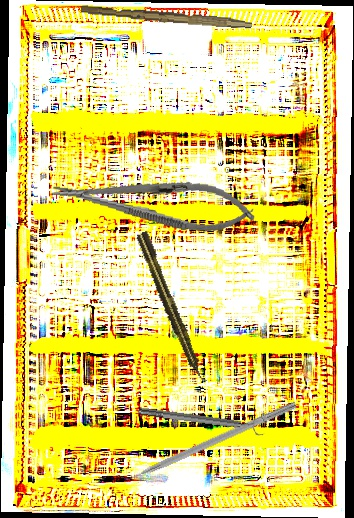Chopper: (109, 391, 299, 489)
Fixation Ring: (137, 400, 267, 438)
Handpiece: (134, 230, 209, 386)
Needle Holder: (48, 164, 259, 239)
Scalpel Handle: (80, 4, 253, 29)
